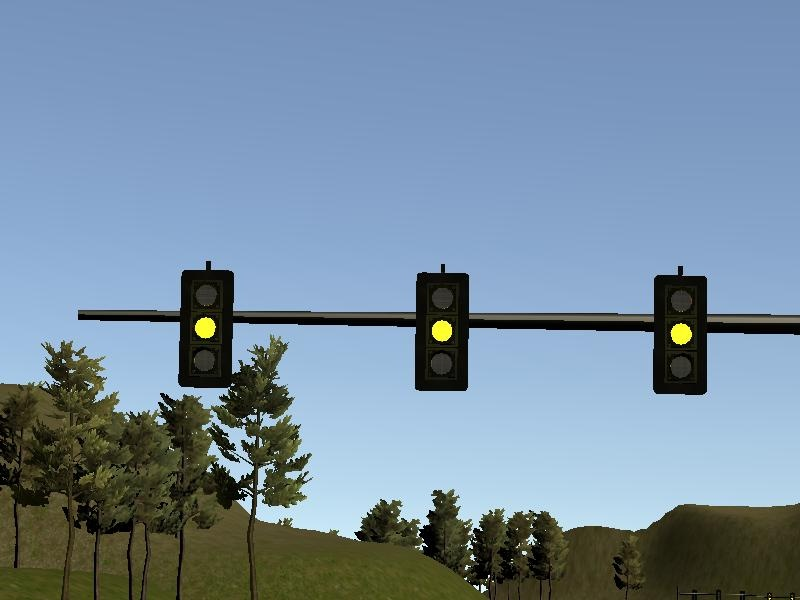YELLOW: (411, 269, 471, 395), (178, 264, 238, 390), (649, 273, 710, 395)
